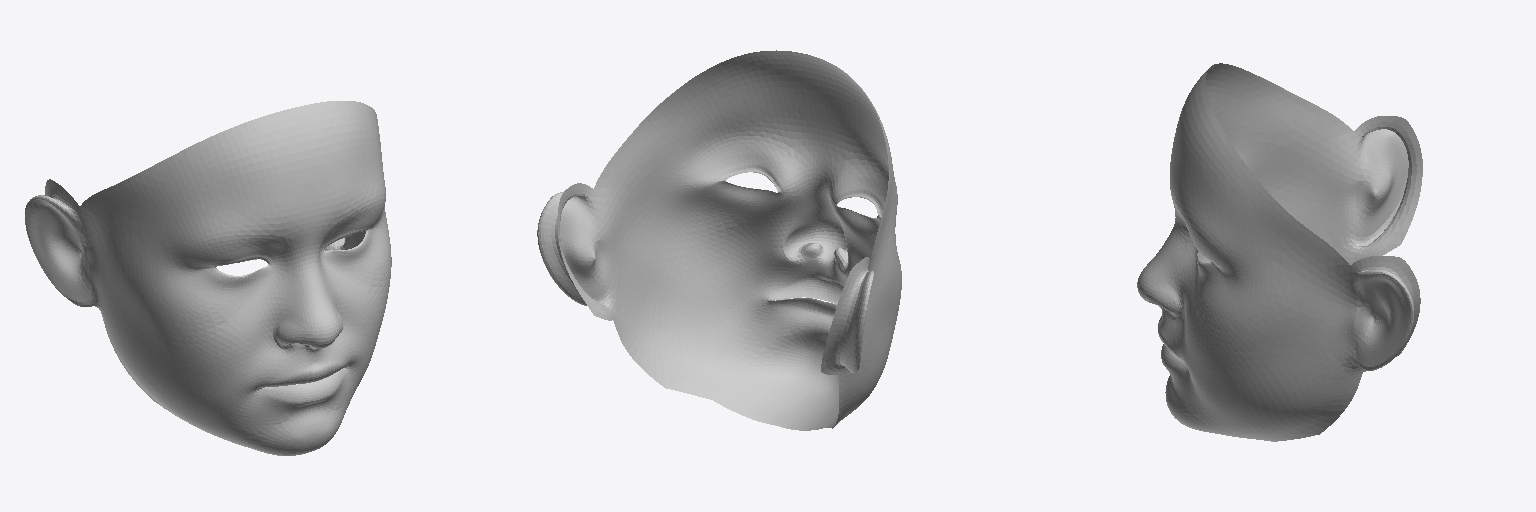
The model's file is current.obj.
The picture shows the model from 3 angles: view 1: azimuth 30°, elevation 25°; view 2: azimuth 150°, elevation 25°; view 3: azimuth 270°, elevation 25°; orthographic projection.
Parts seen in each view (by area): view 1: FaceBuilderHead_FaceBuilderHead_mesh; view 2: FaceBuilderHead_FaceBuilderHead_mesh; view 3: FaceBuilderHead_FaceBuilderHead_mesh.
Part boxes in pixels (x1,y1,x2,y2): FaceBuilderHead_FaceBuilderHead_mesh: (25,101,391,455); FaceBuilderHead_FaceBuilderHead_mesh: (537,50,901,430); FaceBuilderHead_FaceBuilderHead_mesh: (1137,63,1422,441).
Bounding box in the file's own units: 1.8 × 1.82 × 1.35.